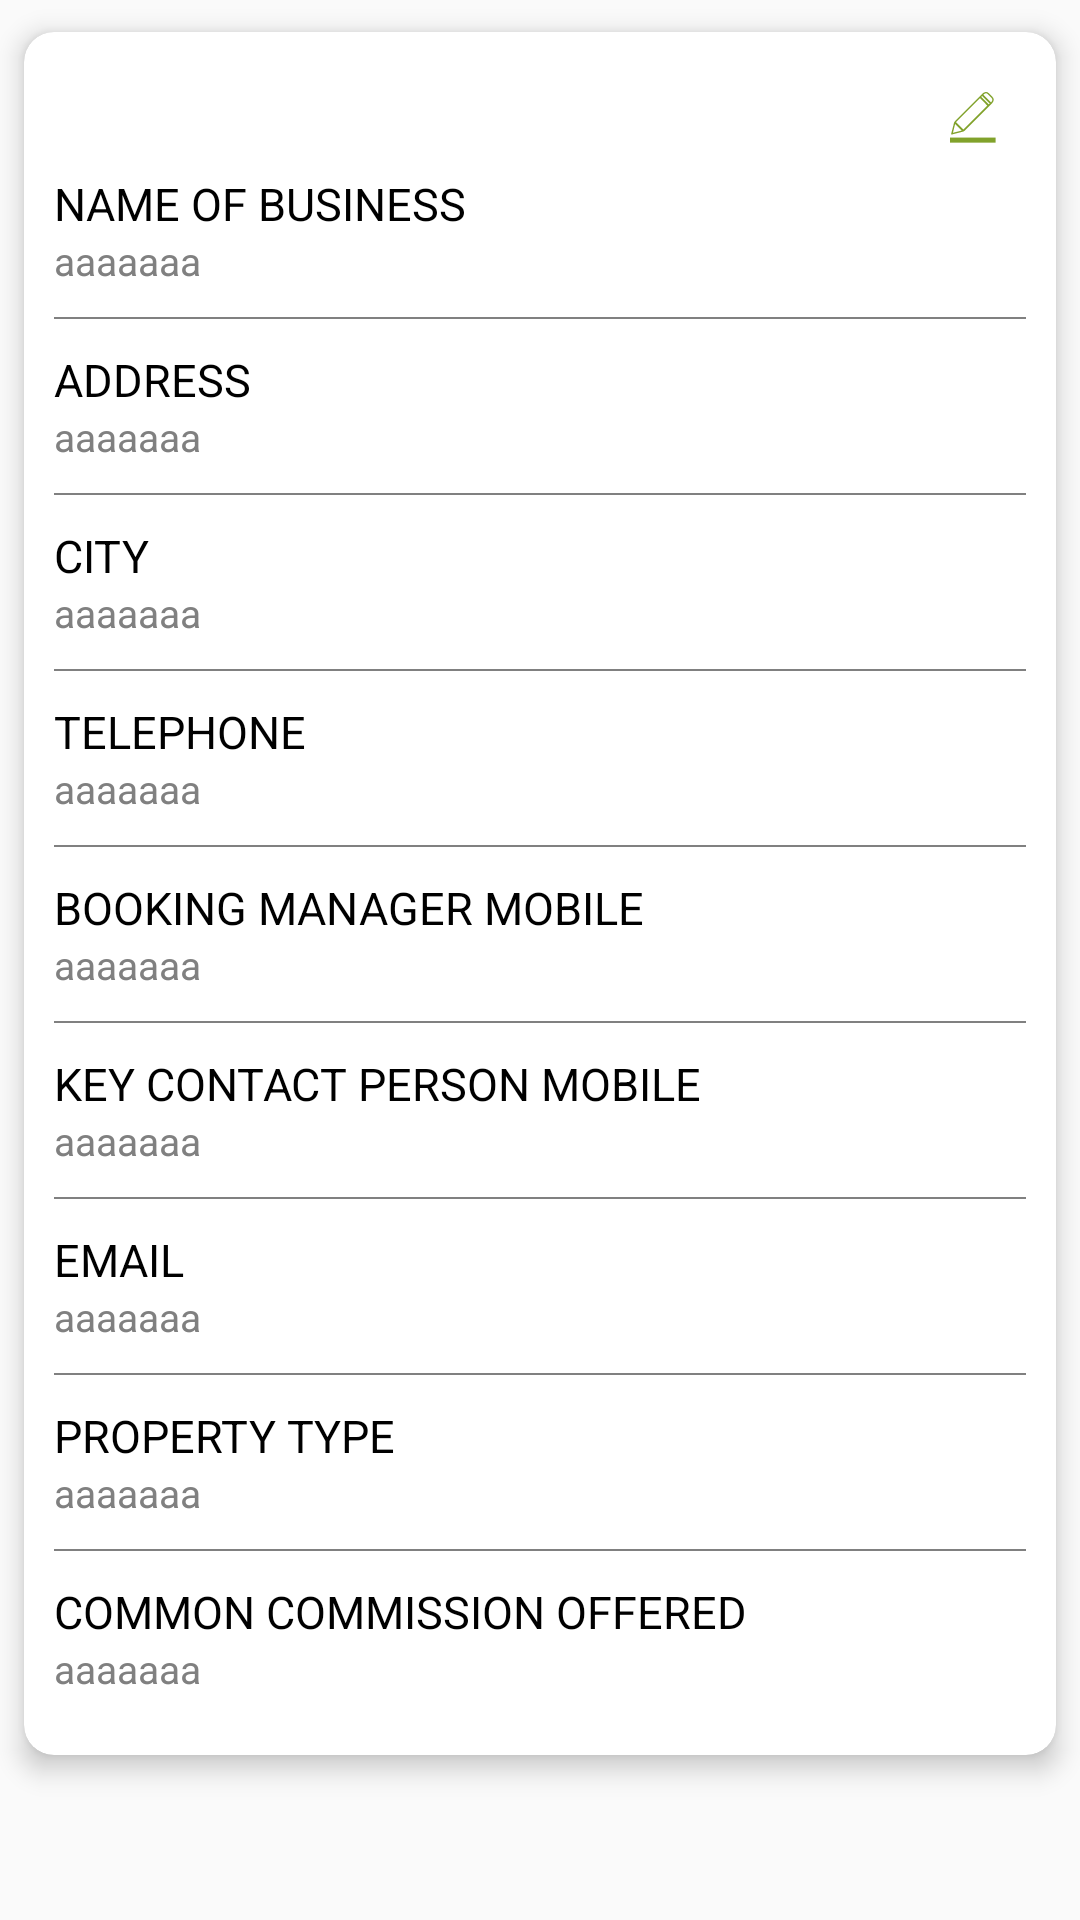

Icons on this 1080×1920 Android screen, each with its box as [x1=x1, y1=y1, x2=x2, y2=y2]:
profile edit: [x1=950, y1=92, x2=996, y2=143]
